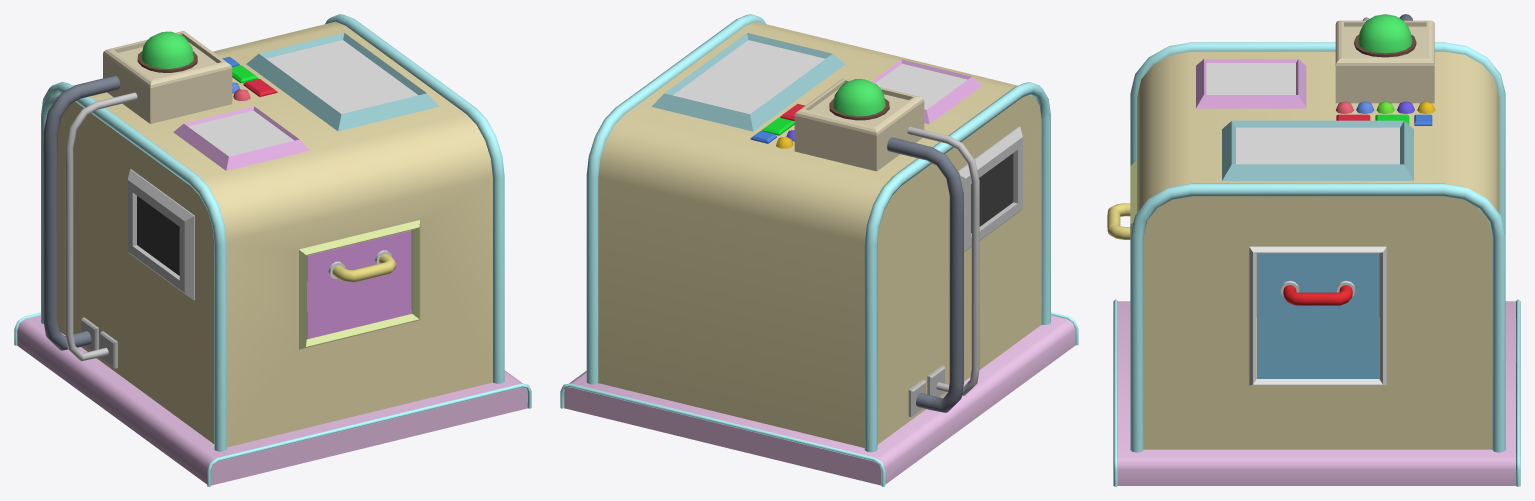
The model's file is MakineElma.fbx.
3 views of the same model, side by side, from view 1: azimuth 30°, elevation 25°; view 2: azimuth 150°, elevation 25°; view 3: azimuth 270°, elevation 25° (orthographic). The views are drawn at different scales.
Parts seen in each view (by area): view 1: MakineBody, Kapak2; view 2: MakineBody; view 3: MakineBody, Kapak1, Kapak2.
Boxes of the visible parts, left/top/right/bottom form: MakineBody: left=14, top=14, right=531, bottom=486; Kapak2: left=306, top=230, right=411, bottom=339; MakineBody: left=560, top=14, right=1078, bottom=486; MakineBody: left=1113, top=14, right=1520, bottom=486; Kapak1: left=1257, top=253, right=1378, bottom=378; Kapak2: left=1107, top=203, right=1130, bottom=239.
Bounding box in the file's own units: 108 × 97.63 × 104.
